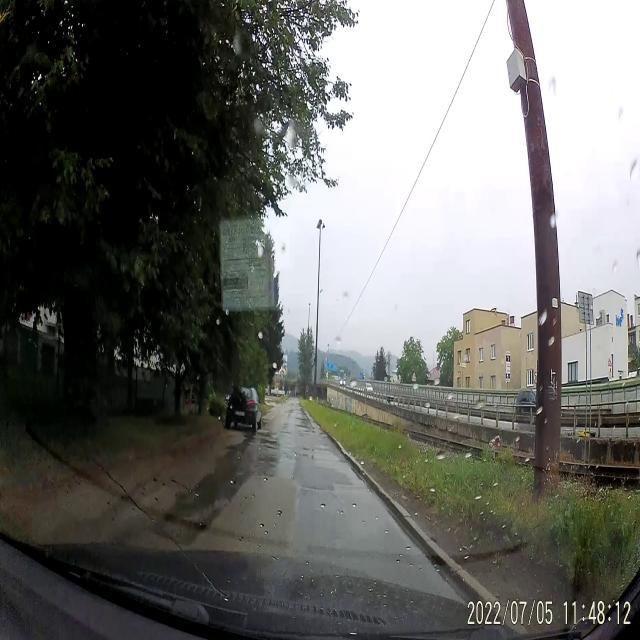Pothole: (296, 479, 332, 501), (253, 434, 280, 452)
